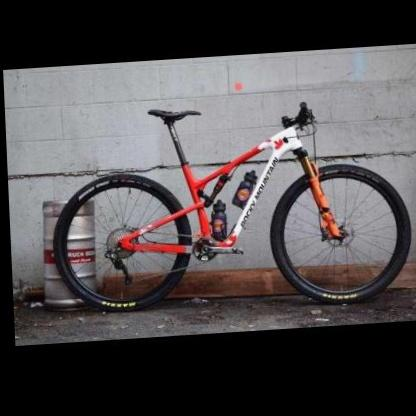Bicycle: (38, 85, 414, 328)
